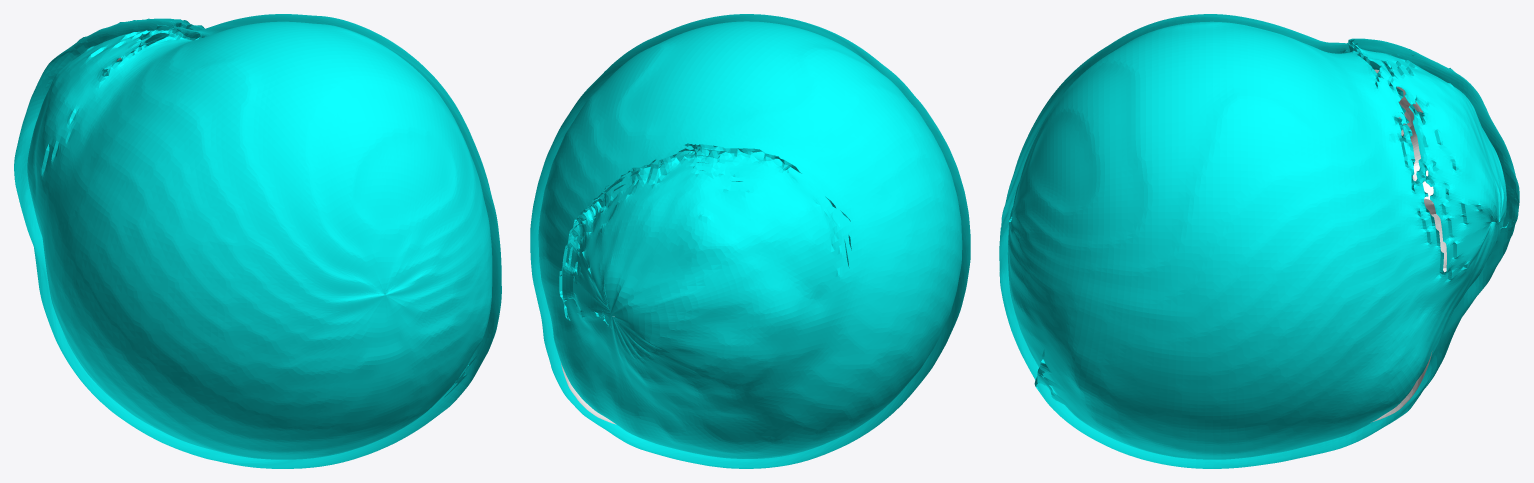
3 renders of one model, left to right at view 1: azimuth 30°, elevation 25°; view 2: azimuth 150°, elevation 25°; view 3: azimuth 270°, elevation 25°, orthographic. The views are drawn at different scales.
Parts seen in each view (by area): view 1: Renderer Node; view 2: Renderer Node; view 3: Renderer Node.
Boxes of the visible parts, <box> form: Renderer Node: <box>14,14,501,468</box>; Renderer Node: <box>530,14,970,468</box>; Renderer Node: <box>999,14,1519,468</box>.
Size of the model in its own units: 1.34e+14 by 1.35e+14 by 1.54e+14.
